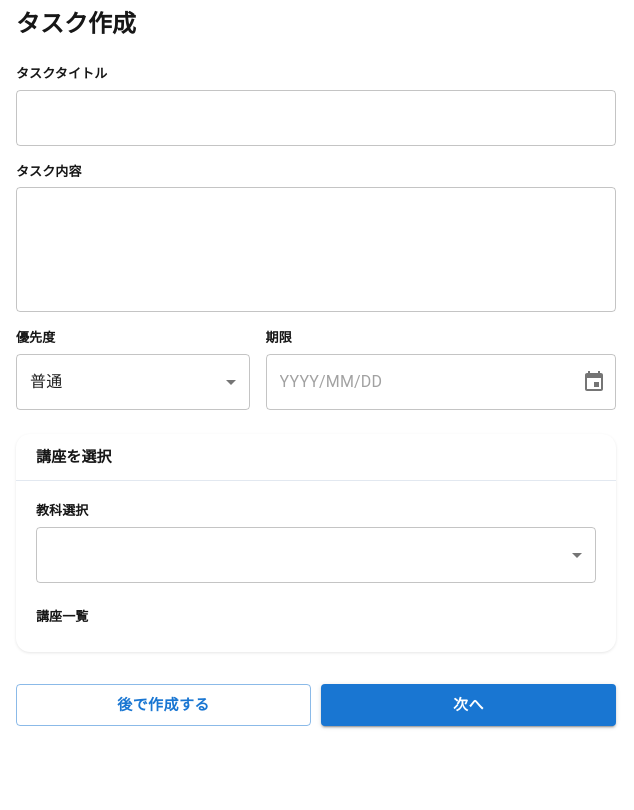
Test: CreateTask › 教科を選択すると講座一覧が取得され表示される
Press the mouse on the 2nd dropdown at [316, 554], box [36, 526, 596, 582]
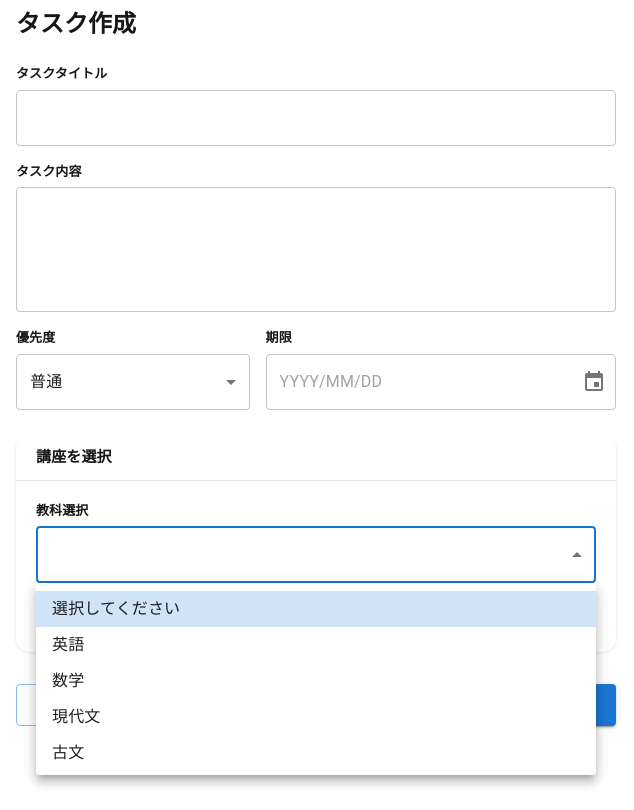
Click the option "英語".
click(68, 644)  # box [52, 635, 84, 654]
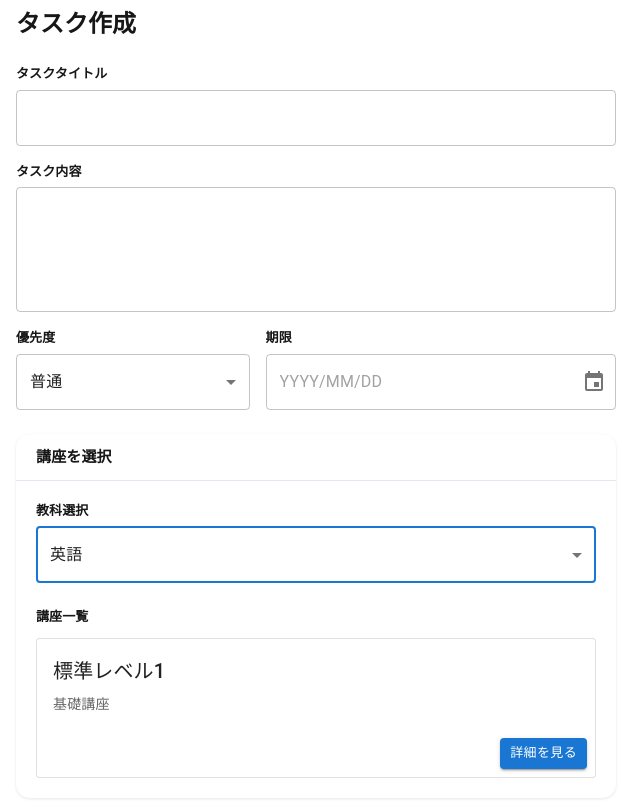
Check: the text "標準レベル1" is shown, box [53, 659, 165, 683]
